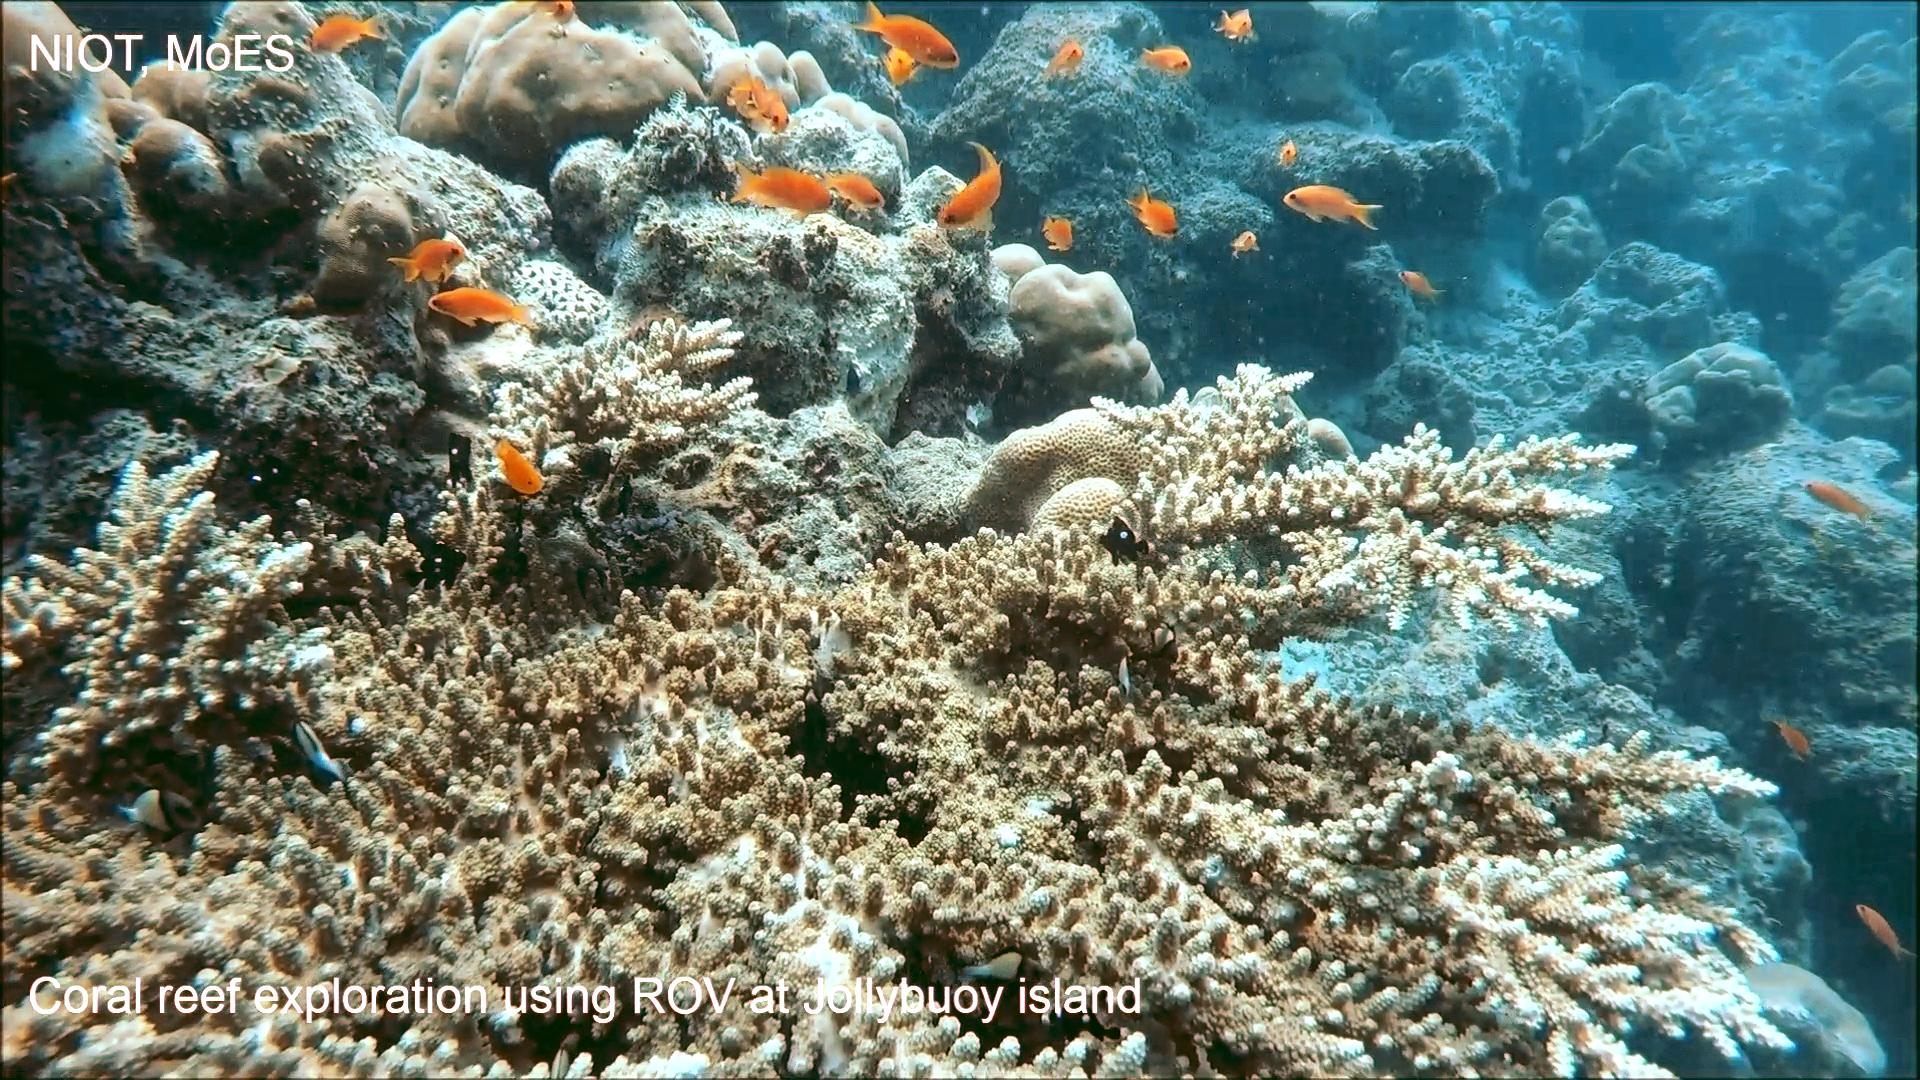Porites-Porites pukoensis: (386, 0, 762, 169), (0, 0, 105, 138)
